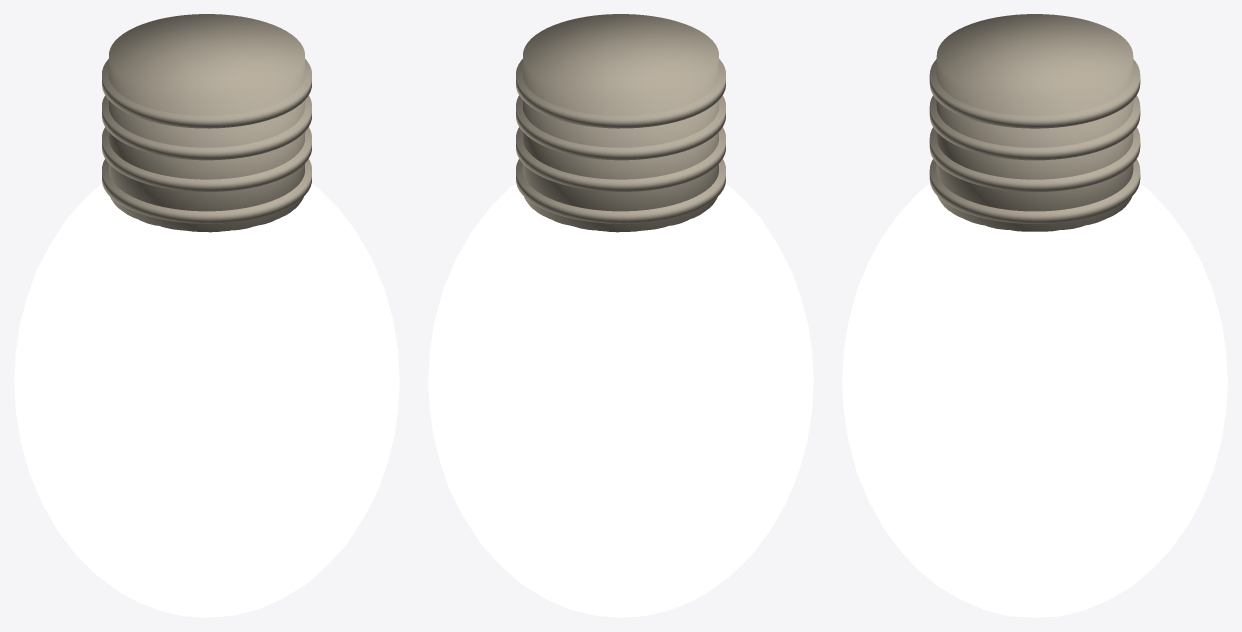
File: bulb.glb
The picture shows the model from 3 angles, left to right: view 1: azimuth 30°, elevation 25°; view 2: azimuth 150°, elevation 25°; view 3: azimuth 270°, elevation 25°; orthographic projection.
Visible parts, largest first — view 1: 磨砂灯泡_0, 灯泡螺口灯座_1, 螺口细纹_6, 螺口细纹_5, 螺口细纹_4, 螺口细纹_3; view 2: 磨砂灯泡_0, 灯泡螺口灯座_1, 螺口细纹_6, 螺口细纹_5, 螺口细纹_4, 螺口细纹_3; view 3: 磨砂灯泡_0, 灯泡螺口灯座_1, 螺口细纹_6, 螺口细纹_5, 螺口细纹_4, 螺口细纹_3.
Part boxes in pixels (x1,y1,x2,y2): 磨砂灯泡_0: (14,183,399,617); 灯泡螺口灯座_1: (109,14,304,232); 螺口细纹_6: (102,59,311,128); 螺口细纹_5: (102,95,311,160); 螺口细纹_4: (102,127,311,191); 螺口细纹_3: (102,159,311,223); 磨砂灯泡_0: (428,183,813,617); 灯泡螺口灯座_1: (523,14,718,232); 螺口细纹_6: (516,59,725,128); 螺口细纹_5: (516,95,725,160); 螺口细纹_4: (516,127,725,191); 螺口细纹_3: (516,159,725,223); 磨砂灯泡_0: (842,183,1227,617); 灯泡螺口灯座_1: (936,14,1133,231); 螺口细纹_6: (929,59,1140,128); 螺口细纹_5: (929,95,1140,160); 螺口细纹_4: (929,127,1140,192); 螺口细纹_3: (929,159,1140,223).
Size of the model in its own units: 0.11 by 0.1725 by 0.11.
